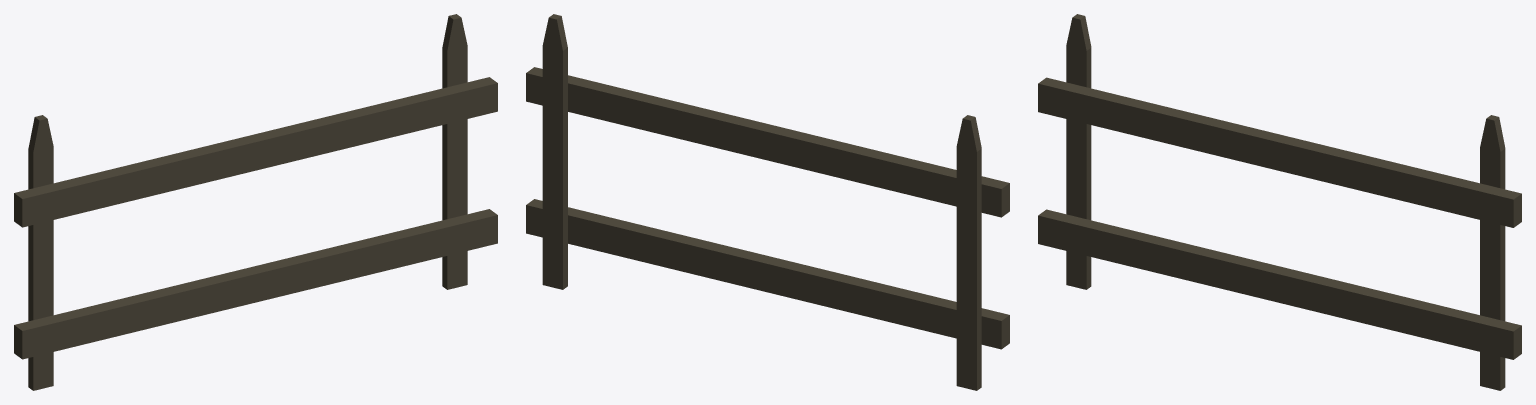
Rendered from Fence1.fbx.
3 renders of one model, left to right at view 1: azimuth 30°, elevation 25°; view 2: azimuth 150°, elevation 25°; view 3: azimuth 330°, elevation 25°, orthographic.
Parts seen in each view (by area): view 1: Fence1; view 2: Fence1; view 3: Fence1.
Boxes of the visible parts, bbox=[...] form: Fence1: bbox=[14, 14, 497, 390]; Fence1: bbox=[526, 14, 1009, 390]; Fence1: bbox=[1038, 14, 1521, 390].
Size of the model in its own units: 264 by 12.95 by 143.
